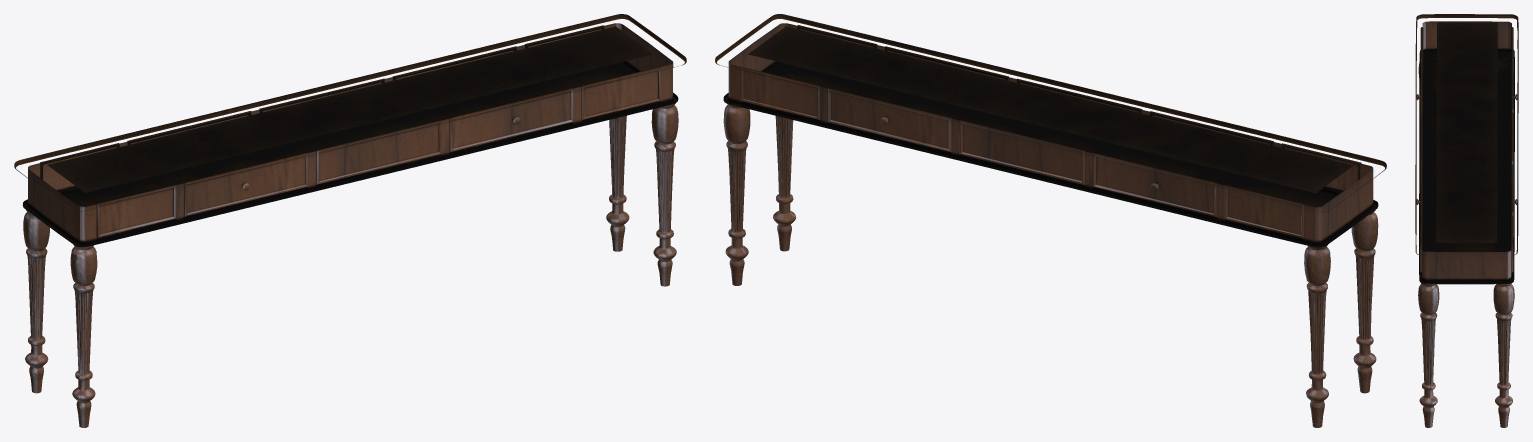
The picture shows the model from 3 angles, left to right: view 1: azimuth 30°, elevation 25°; view 2: azimuth 150°, elevation 25°; view 3: azimuth 270°, elevation 25°; orthographic projection. The views are drawn at different scales.
Visible parts, largest first — view 1: solid_001_wire; view 2: solid_001_wire; view 3: solid_001_wire.
Boxes of the visible parts, x1=… form: solid_001_wire: x1=14, y1=14, x2=686, y2=427; solid_001_wire: x1=715, y1=14, x2=1386, y2=427; solid_001_wire: x1=1415, y1=14, x2=1518, y2=427.
Size of the model in its own units: 2.21 by 0.7816 by 0.4035.
1 material, 1 textured.
